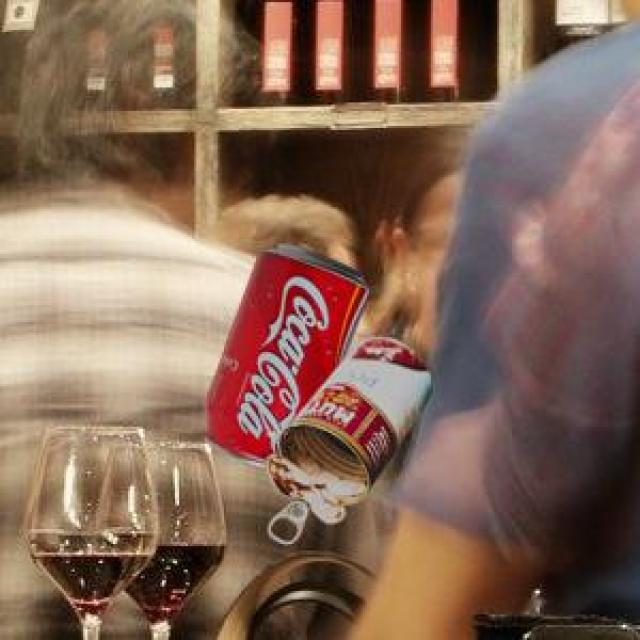Can: (202, 240, 366, 464), (263, 334, 430, 537)
